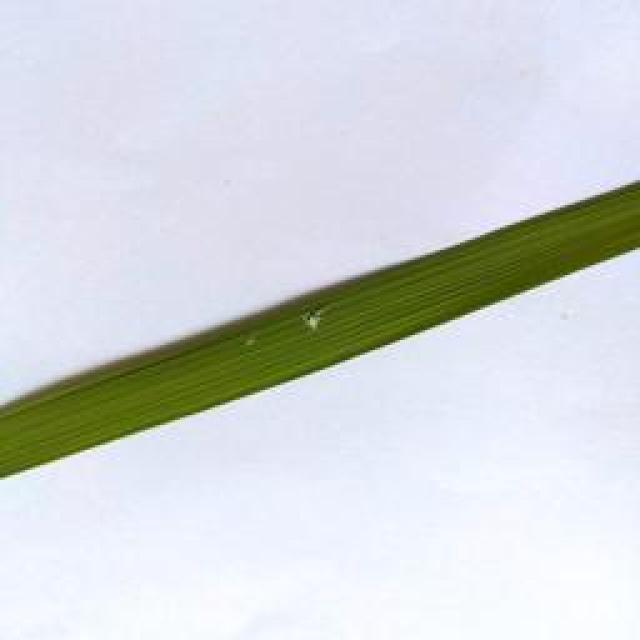Healthy-Plant: (328, 178, 640, 368), (0, 312, 288, 480)
